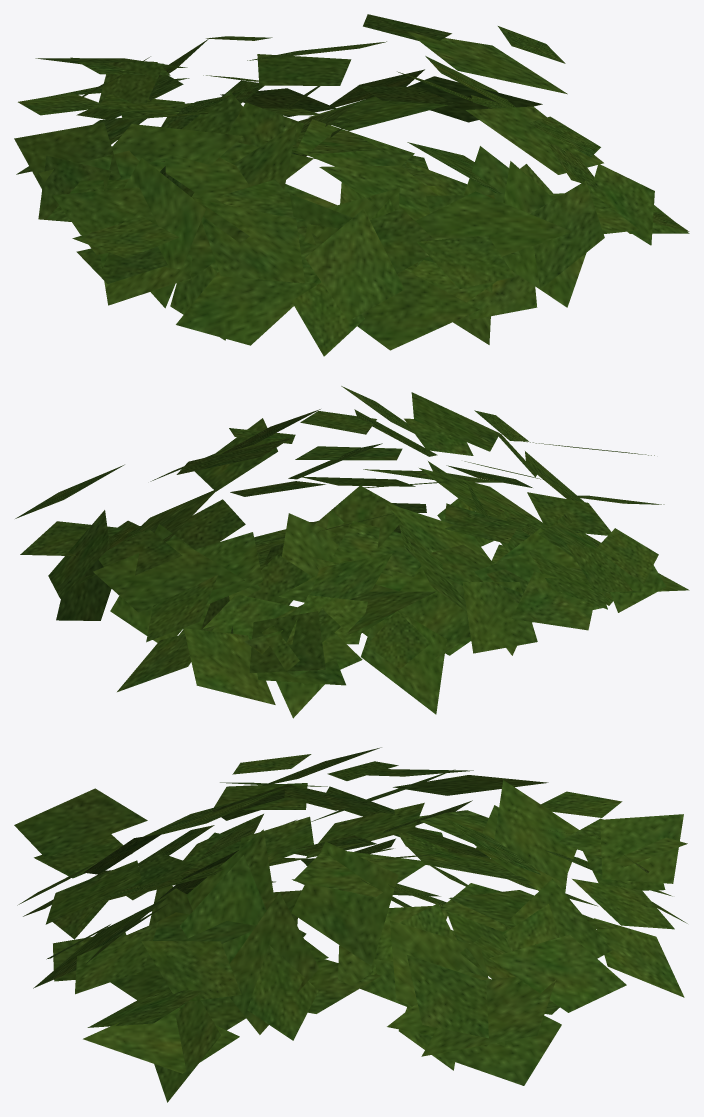
Rendered from groundcover_opaque.glb.
3 renders of one model, top to bottom at view 1: azimuth 30°, elevation 25°; view 2: azimuth 150°, elevation 25°; view 3: azimuth 270°, elevation 25°, orthographic. The views are drawn at different scales.
Parts seen in each view (by area): view 1: _MeshInstance3D_9; view 2: _MeshInstance3D_9; view 3: _MeshInstance3D_9.
Part boxes in pixels (x1=…): _MeshInstance3D_9: x1=14, y1=14, x2=689, y2=356; _MeshInstance3D_9: x1=15, y1=386, x2=689, y2=718; _MeshInstance3D_9: x1=14, y1=747, x2=687, y2=1102.
Size of the model in its own units: 1.28 by 0.2807 by 1.29.
1 material, 1 textured.
